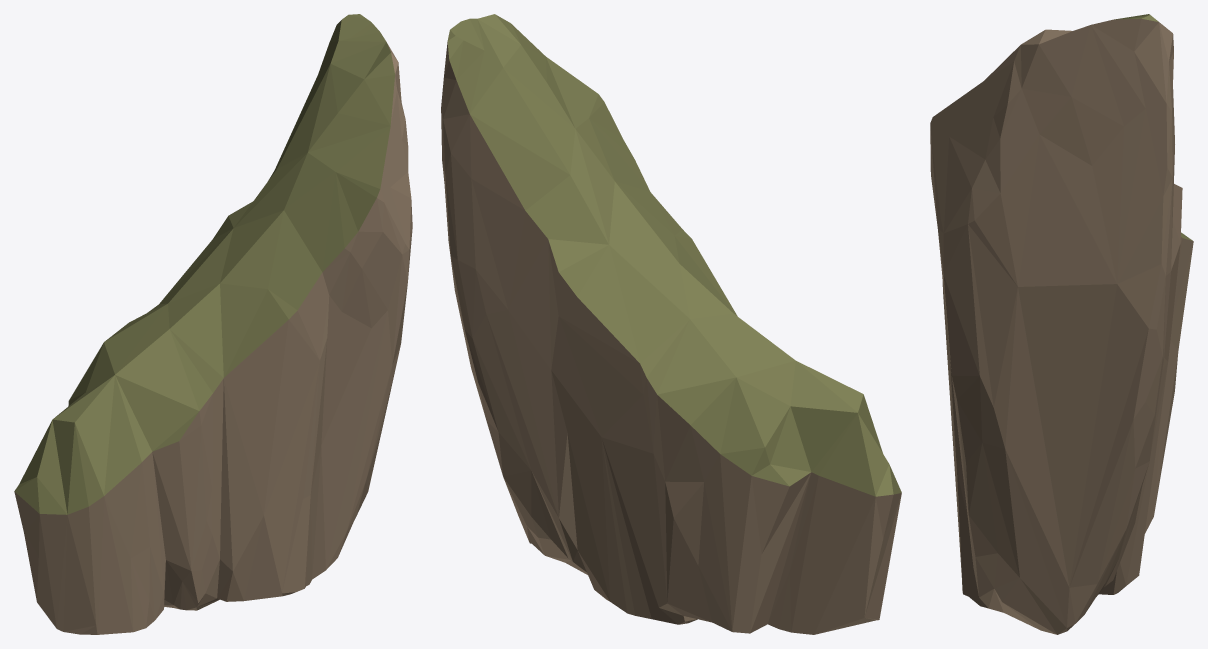
File: SM_Env_Rock_Curve_02.fbx
3 views of the same model, side by side, from view 1: azimuth 30°, elevation 25°; view 2: azimuth 150°, elevation 25°; view 3: azimuth 270°, elevation 25° (orthographic). The views are drawn at different scales.
Visible parts, largest first — view 1: SM_Env_Rock_Curve_02; view 2: SM_Env_Rock_Curve_02; view 3: SM_Env_Rock_Curve_02.
Part boxes in pixels (x1,y1,x2,y2): SM_Env_Rock_Curve_02: (14,14,412,634); SM_Env_Rock_Curve_02: (441,14,901,634); SM_Env_Rock_Curve_02: (930,14,1193,634).
Size of the model in its own units: 2196 by 2825 by 1000.
